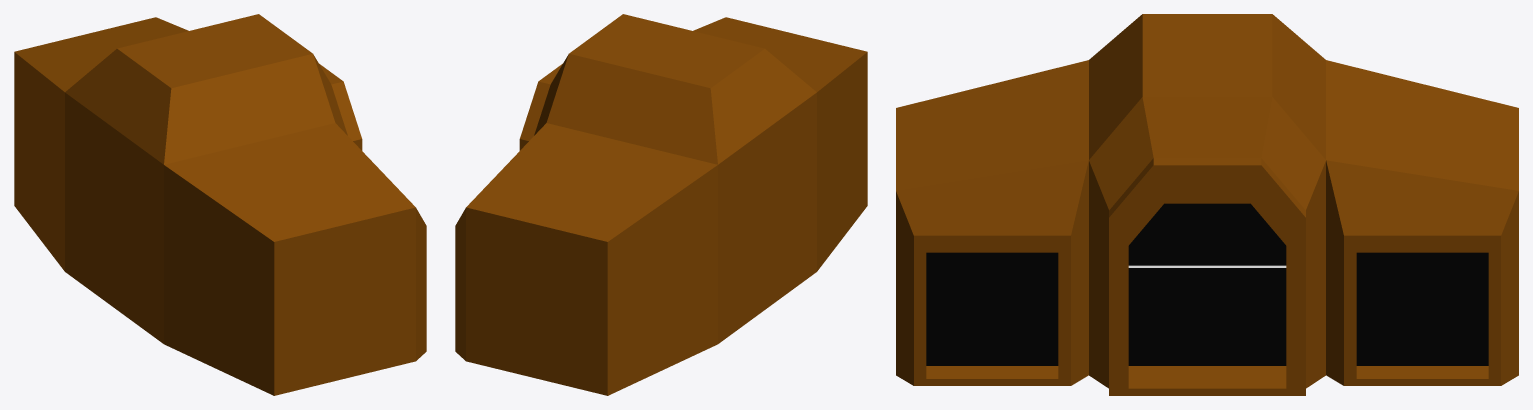
Rendered from enemygiji.fbx.
3 views of the same model, side by side, from view 1: azimuth 30°, elevation 25°; view 2: azimuth 150°, elevation 25°; view 3: azimuth 270°, elevation 25° (orthographic). The views are drawn at different scales.
Parts seen in each view (by area): view 1: Cube; view 2: Cube; view 3: Cube.
Boxes of the visible parts, <box> form: Cube: <box>14,14,426,395</box>; Cube: <box>455,14,867,395</box>; Cube: <box>896,14,1518,395</box>.
Bounding box in the file's own units: 241 × 259 × 525.
